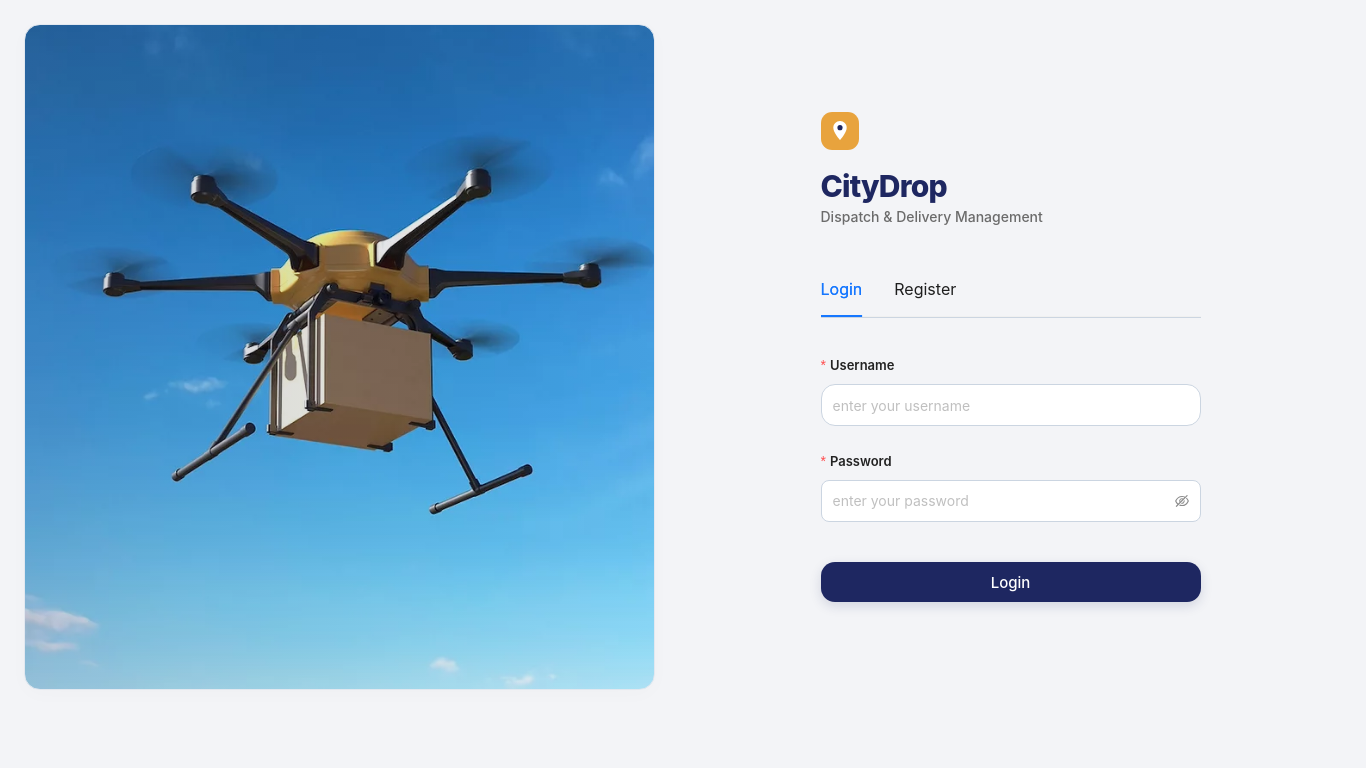
blocks submission and shows field errors when username/password are empty
This screenshot has width=1366, height=768.
Click the button "Login": (1010, 582) [820,562,1200,602]
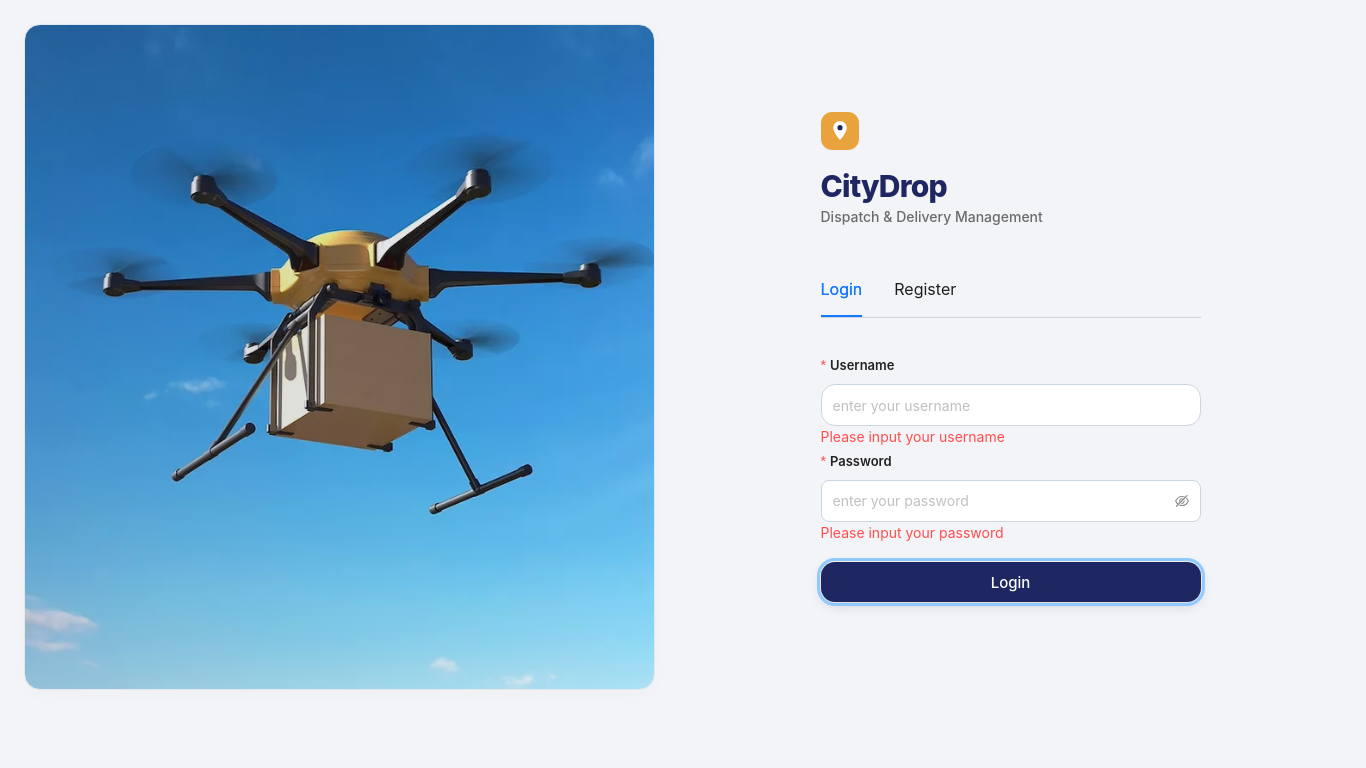
Expected: the text "Please input your username" is shown, [820,428,1005,445]
Expected: the text "Please input your password" is shown, [820,524,1004,541]
